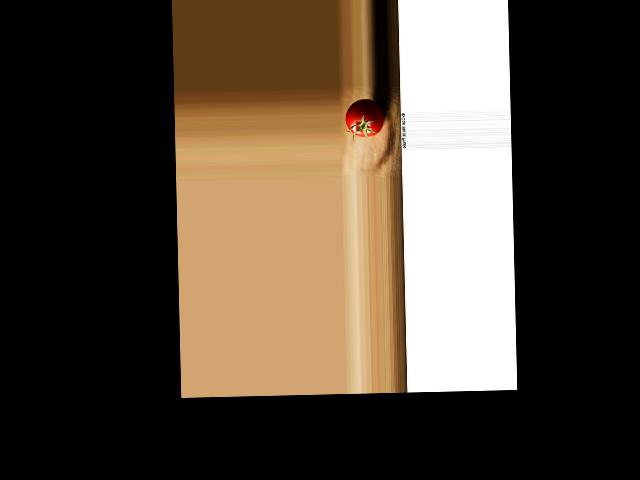tomato: (346, 99, 384, 138)
